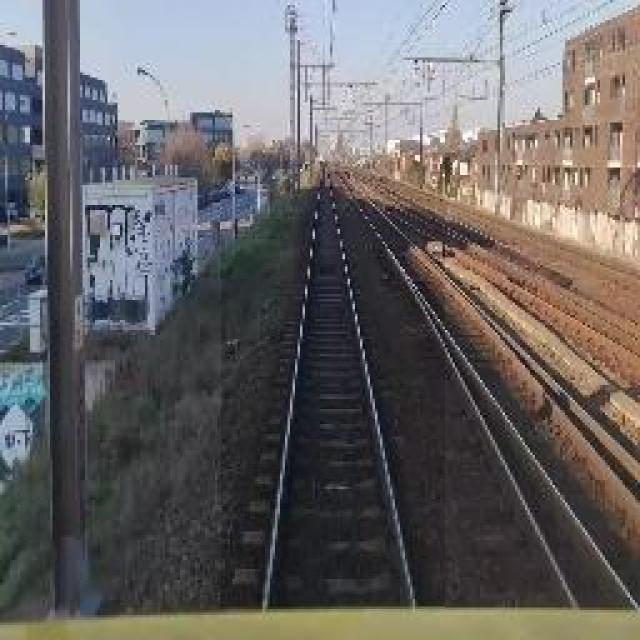rail: (222, 162, 446, 612)
